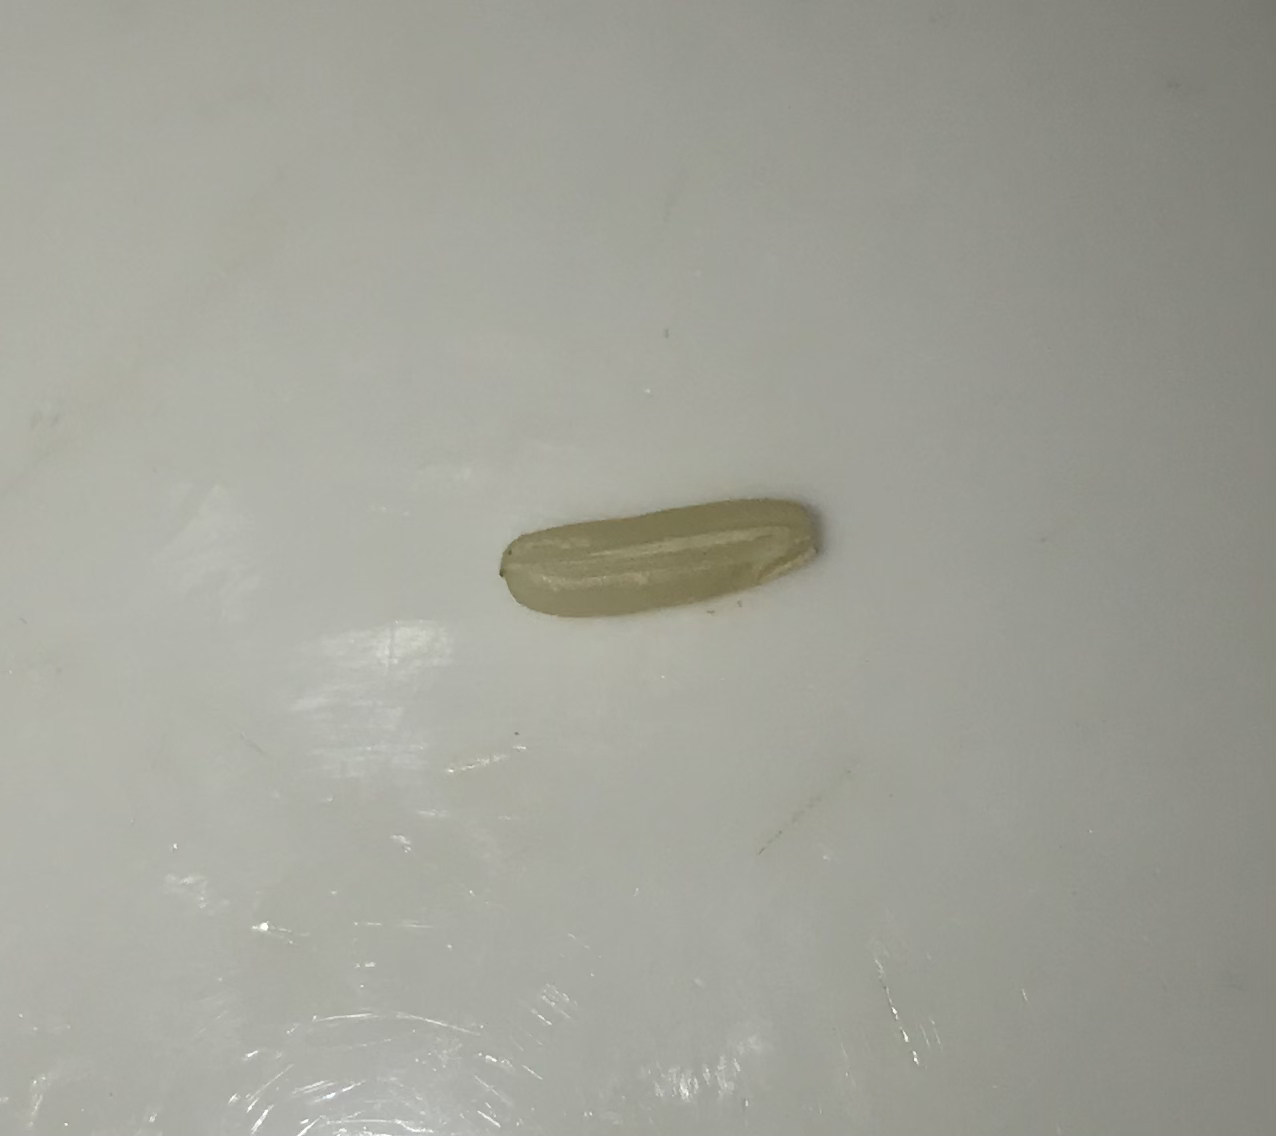Gao Lut Trang: (485, 470, 839, 635)
